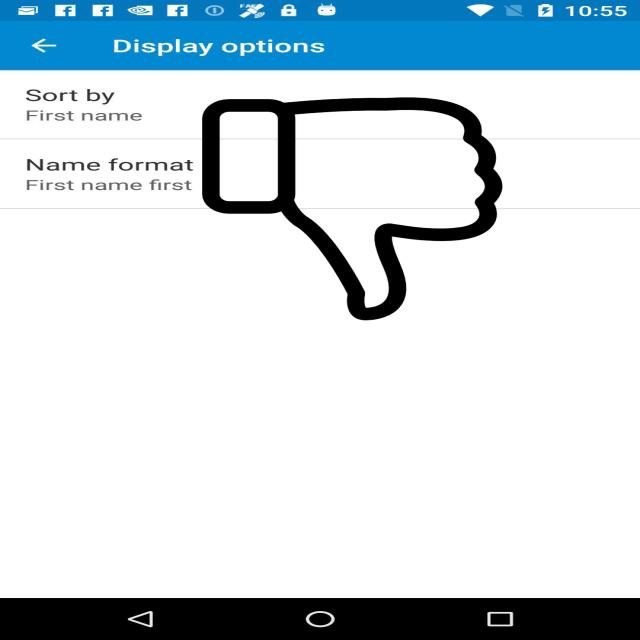obstruction: (198, 97, 507, 320)
